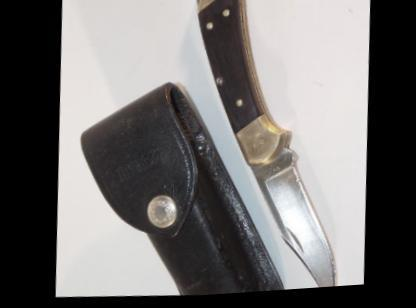knife: (228, 112, 346, 294)
